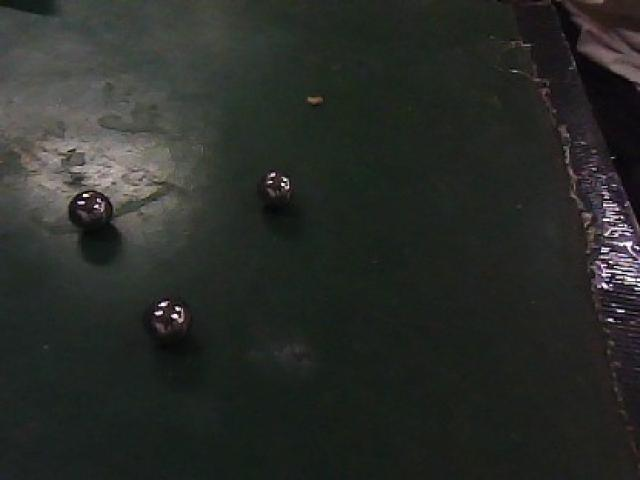steel-ball: (56, 168, 130, 244), (135, 285, 203, 357), (252, 153, 322, 216)
